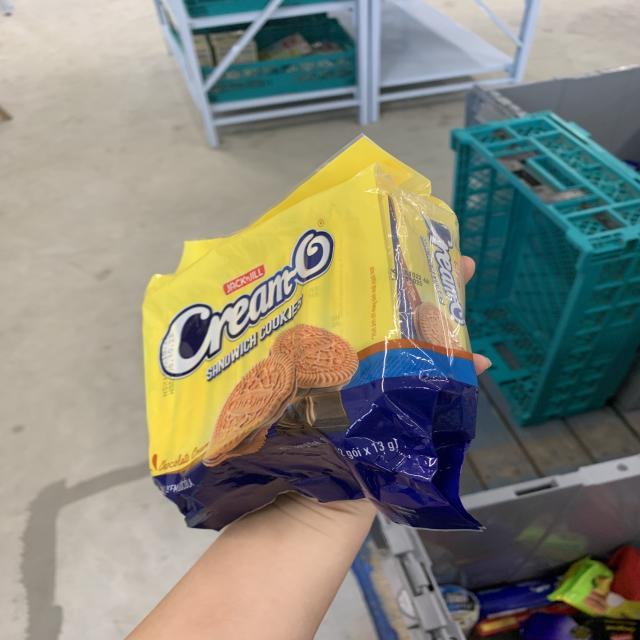object_name: (176, 237, 449, 486)
